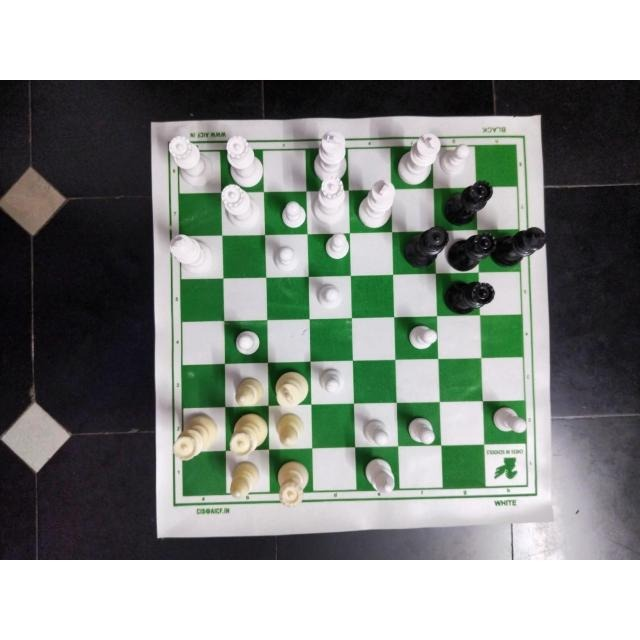black-king: (493, 226, 544, 267)
black-queen: (447, 178, 493, 225), (402, 225, 448, 268), (450, 231, 497, 271), (444, 279, 497, 314)
white-bishop: (365, 456, 398, 494), (228, 462, 260, 498), (276, 413, 304, 447), (234, 377, 264, 407)
white-king: (397, 133, 441, 185), (167, 234, 214, 274), (312, 129, 347, 181), (357, 180, 394, 228), (274, 369, 308, 407)
white-pawn: (491, 405, 529, 434), (404, 414, 438, 446), (440, 144, 470, 176), (361, 419, 393, 447), (276, 200, 308, 228), (234, 328, 264, 355), (406, 324, 438, 349), (272, 245, 300, 273), (323, 231, 350, 260), (316, 368, 344, 395), (319, 283, 343, 309)
white-queen: (167, 135, 214, 187), (173, 413, 217, 461), (225, 134, 264, 188), (220, 185, 262, 229), (313, 176, 349, 225), (228, 413, 267, 458), (275, 459, 310, 509)
